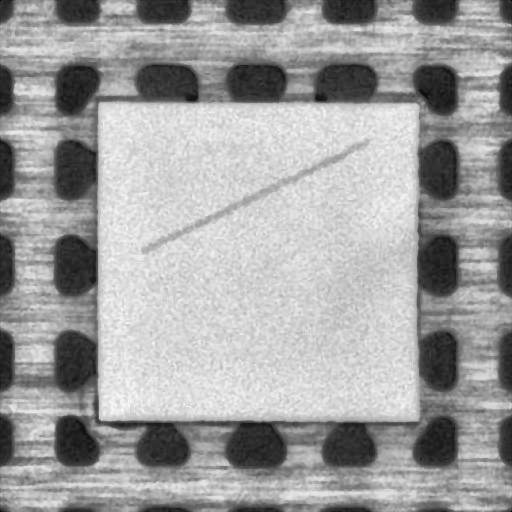DIE_CRACK: (140, 142, 365, 251)
